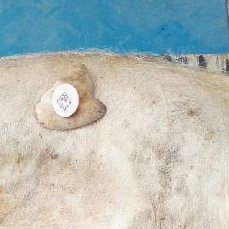text: (44, 74, 94, 124)
